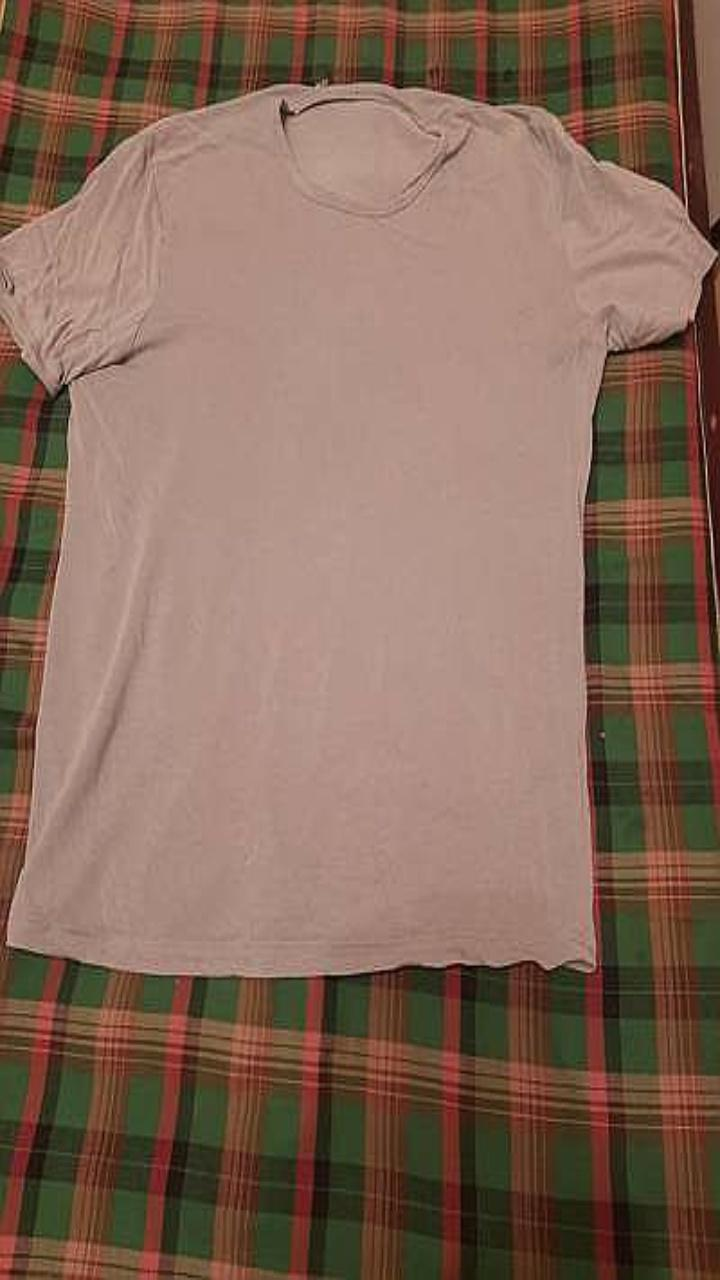T-Shirt: (0, 81, 715, 974)
